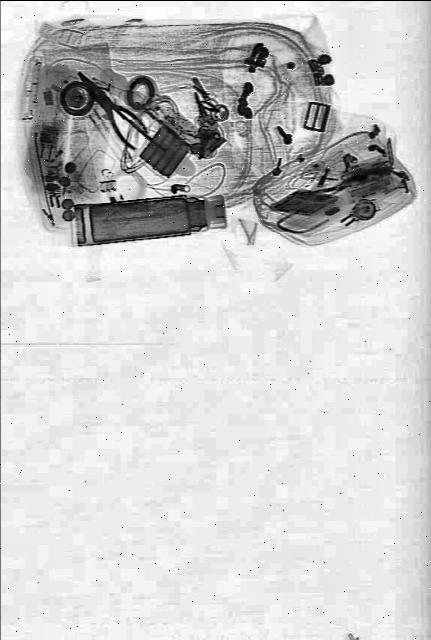Pliers: (70, 58, 150, 154)
